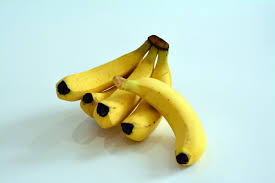banana: (53, 33, 208, 169)
